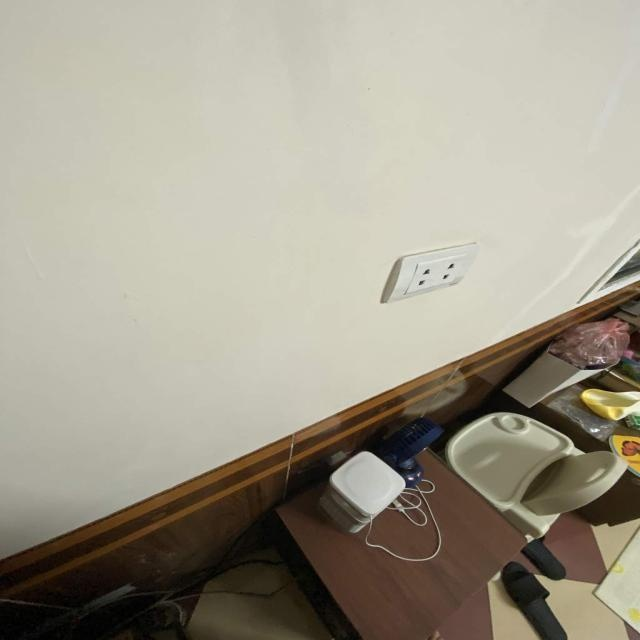outlet: (380, 241, 480, 303)
